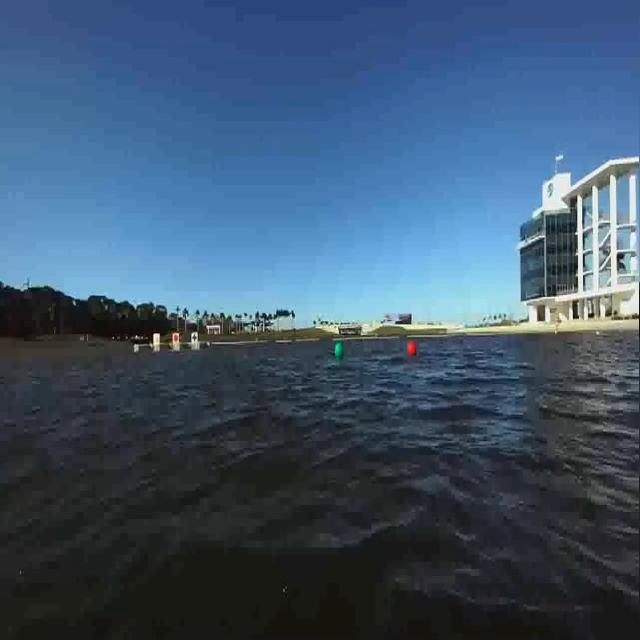green-buoy: (335, 342, 346, 361)
red-column-buoy: (408, 342, 418, 358)
